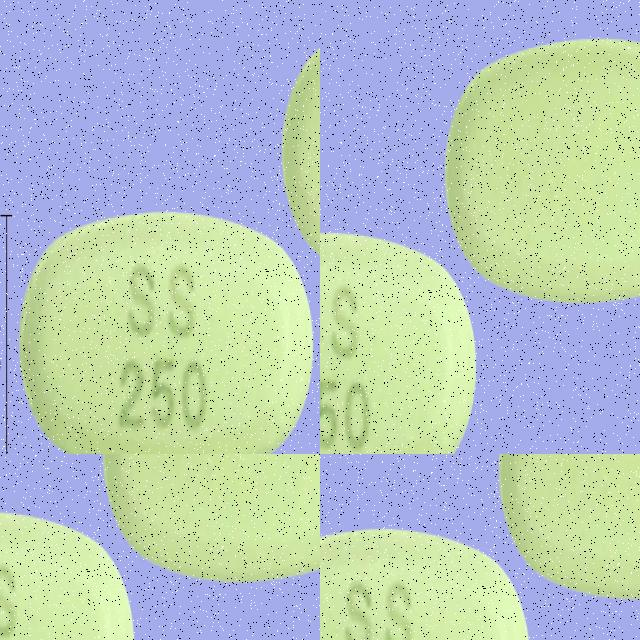Huloxacin: (158, 298, 320, 454)
Lexacin: (458, 43, 640, 303), (320, 237, 466, 454)
Samsung Clarithromycin Tab-500mg: (320, 525, 532, 640), (498, 454, 640, 596)
